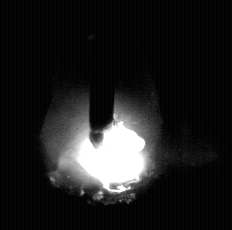arame: (90, 0, 115, 146)
poca: (40, 0, 163, 230)
